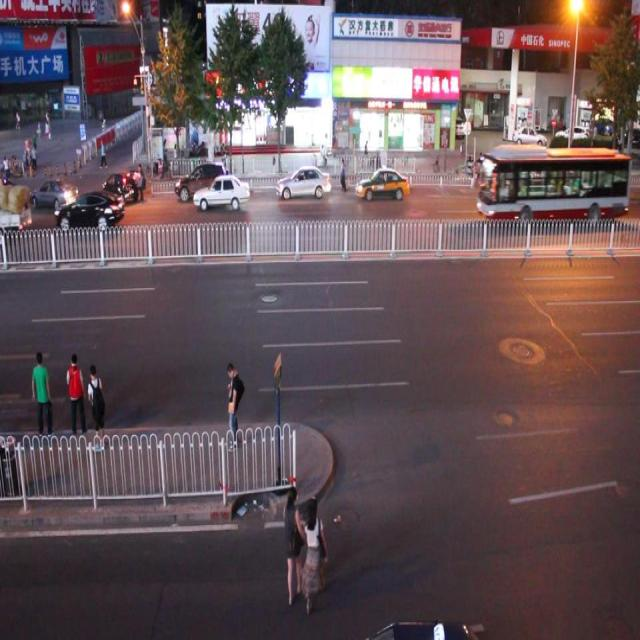bus: (0, 184, 32, 242)
car: (56, 188, 125, 232), (175, 161, 228, 202), (193, 174, 250, 210), (274, 164, 330, 199), (353, 167, 408, 200), (31, 177, 76, 209), (101, 168, 138, 204), (510, 153, 538, 190), (1, 172, 14, 207)
van: (476, 143, 628, 223)
